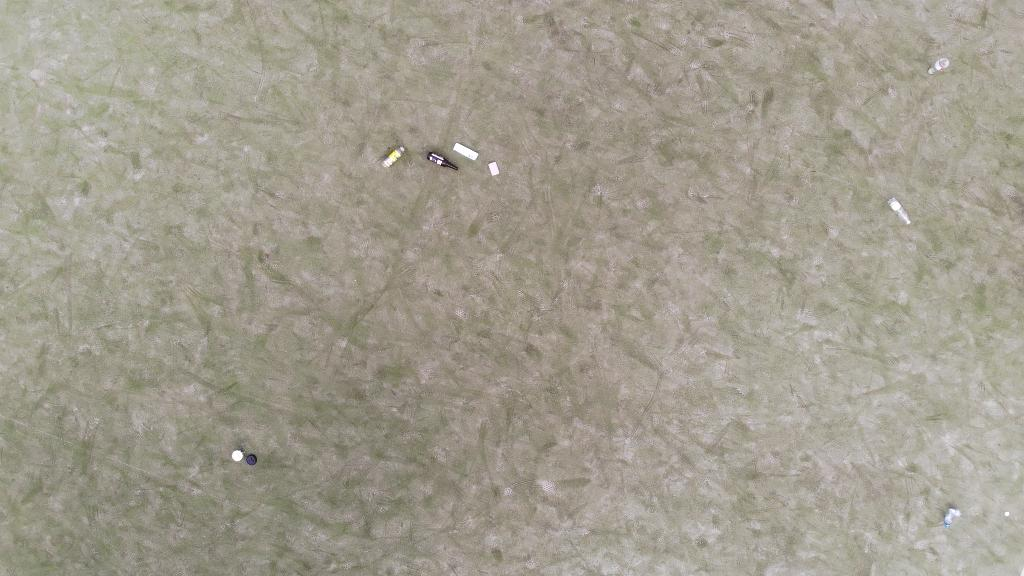garbage: (888, 193, 911, 228), (426, 151, 459, 171), (381, 146, 406, 169), (926, 54, 949, 78), (452, 142, 479, 161), (944, 507, 962, 528), (488, 161, 500, 176)
